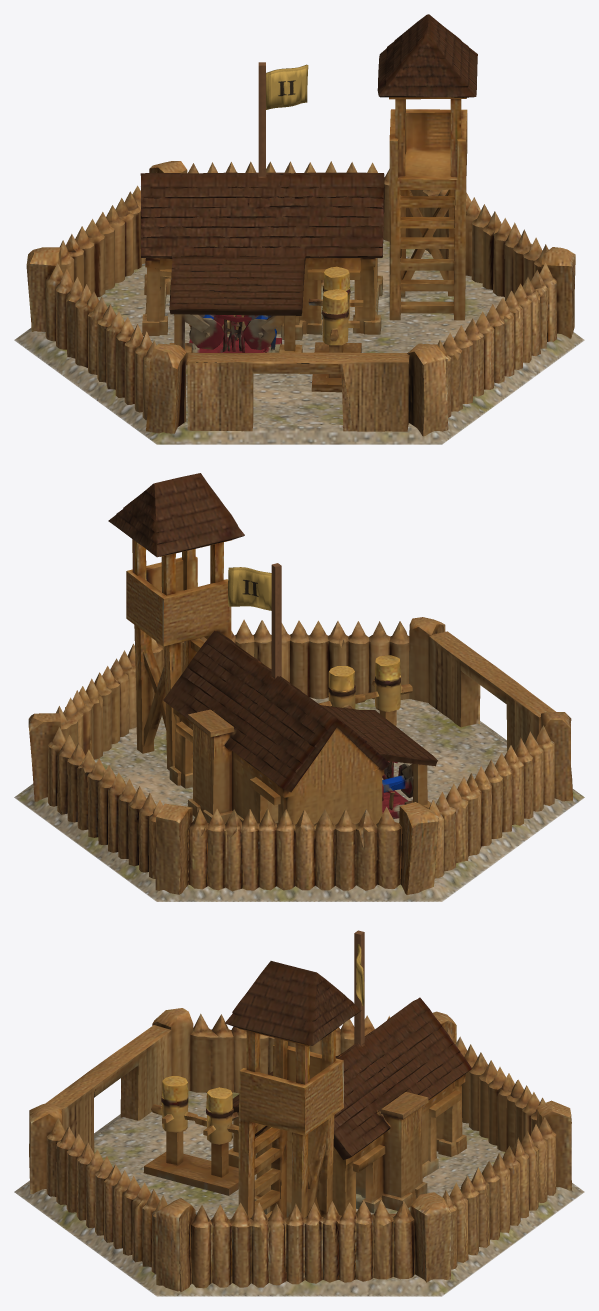
The model's file is barracks-2.glb.
3 renders of one model, top to bottom at view 1: azimuth 30°, elevation 25°; view 2: azimuth 150°, elevation 25°; view 3: azimuth 270°, elevation 25°, orthographic.
Parts seen in each view (by area): view 1: architecture, ground, tier-banner; view 2: architecture, ground, tier-banner; view 3: architecture, ground.
Part boxes in pixels (x1,y1,x2,y2): architecture: (26, 14, 575, 436); ground: (14, 239, 584, 444); tier-banner: (266, 64, 308, 109); architecture: (28, 473, 572, 894); ground: (14, 697, 584, 901); tier-banner: (228, 567, 271, 610); architecture: (29, 930, 571, 1291); ground: (14, 1091, 584, 1296).
Size of the model in its own units: 1.6 by 1.02 by 1.84.
Materials: 3 (3 with a texture image).
